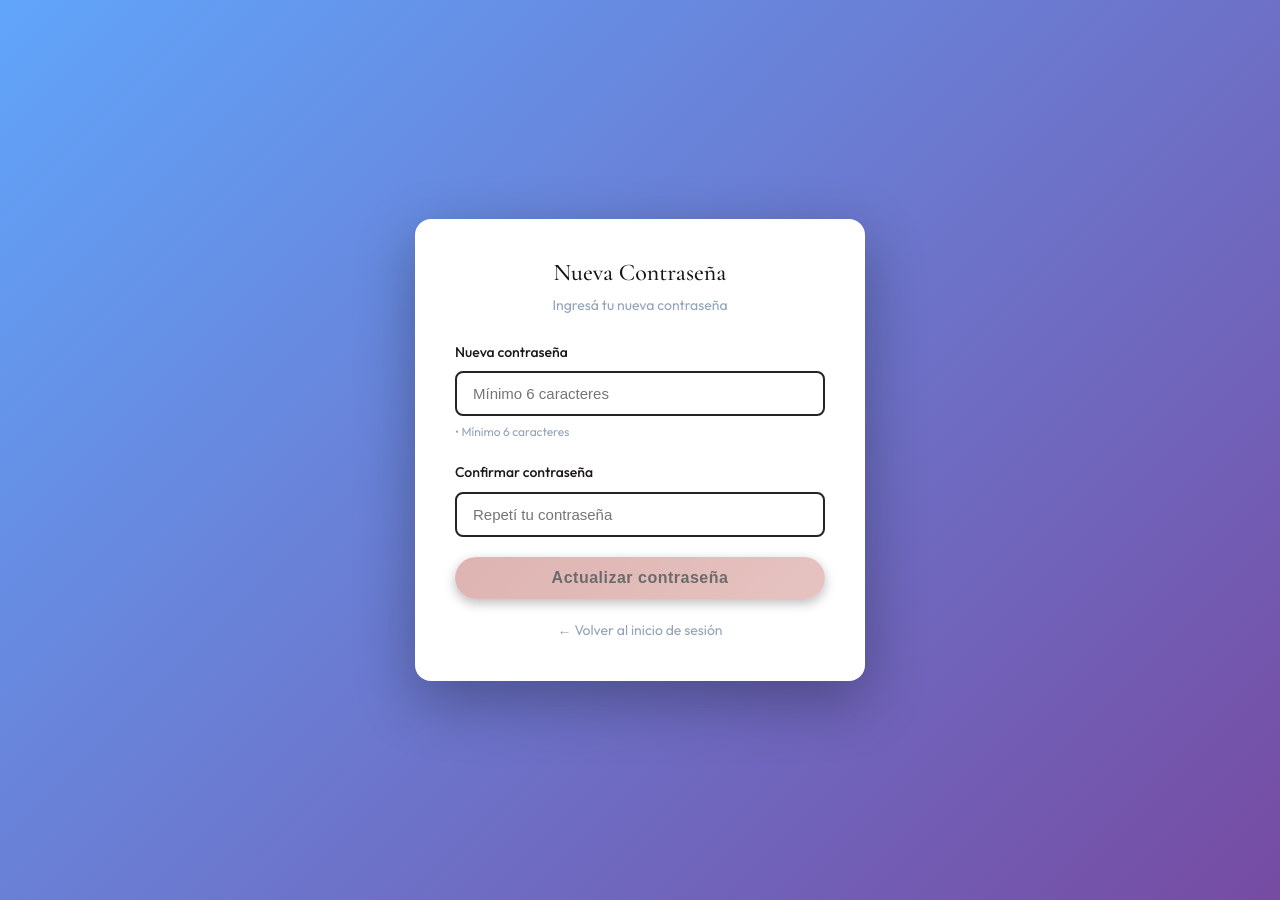
Test case: ResetPassword › shows error when passwords do not match
This screenshot has width=1280, height=900.
Type "123456" into the password field with placeholder "Mínimo 6 caracteres". click: point(640, 394)
box: x1=455 y1=371 x2=825 y2=416
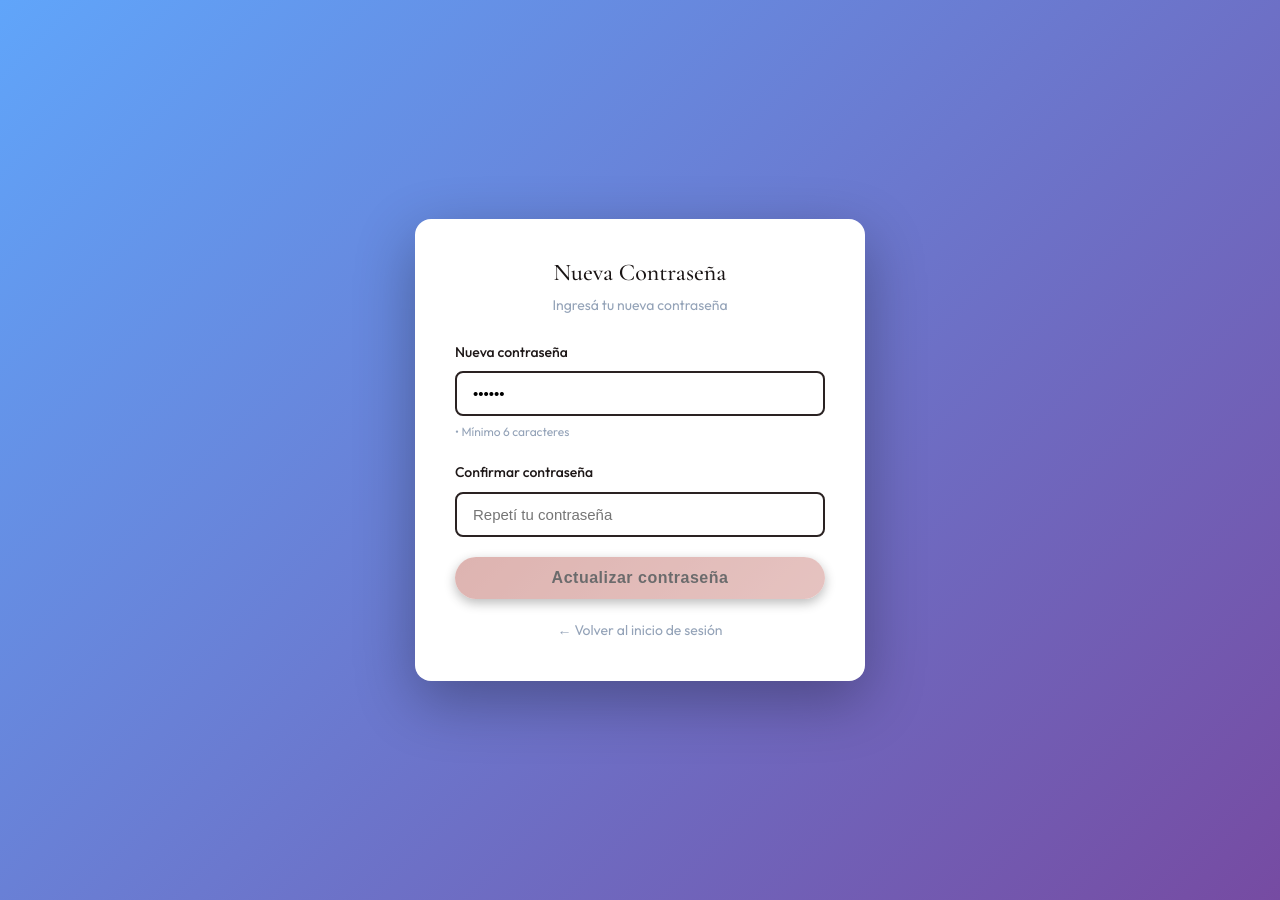
Type "654321" into the password field with placeholder "Repetí tu contraseña". click: point(640, 514)
box: x1=455 y1=492 x2=825 y2=537
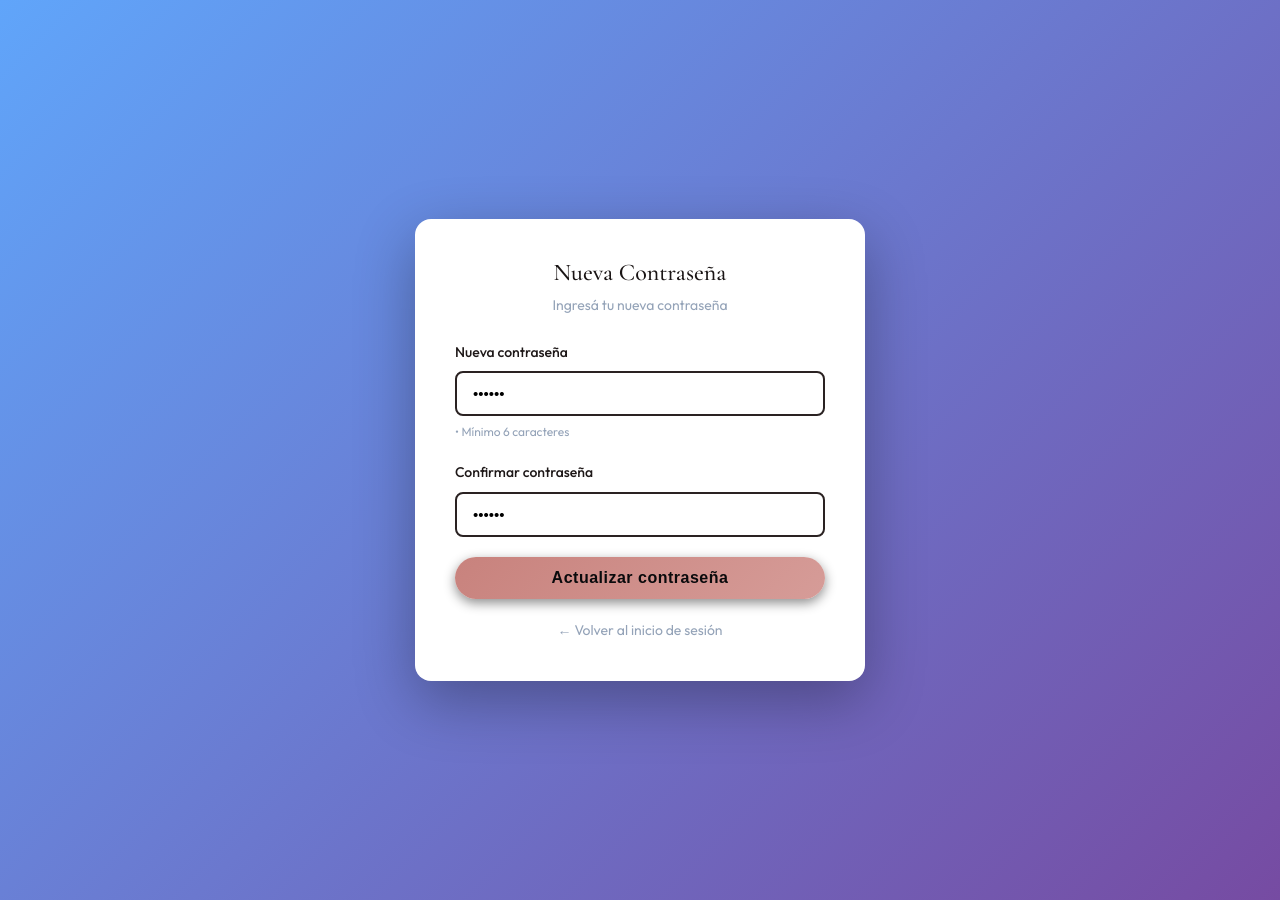
Click the button "Actualizar contraseña". click: point(640, 578)
box: x1=455 y1=557 x2=825 y2=599
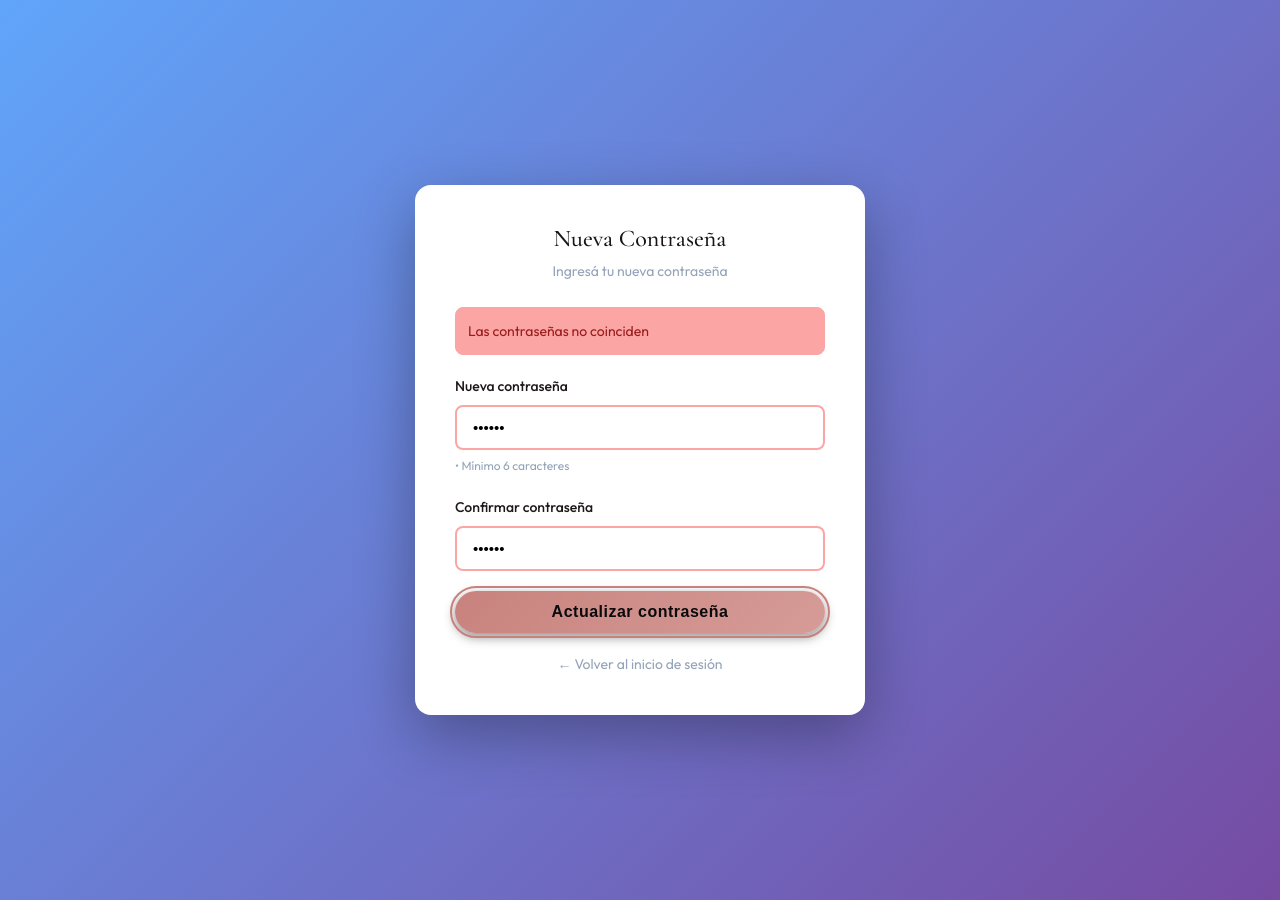
Expected: the text "Las contraseñas no coinciden" is shown, x1=455 y1=307 x2=825 y2=355
